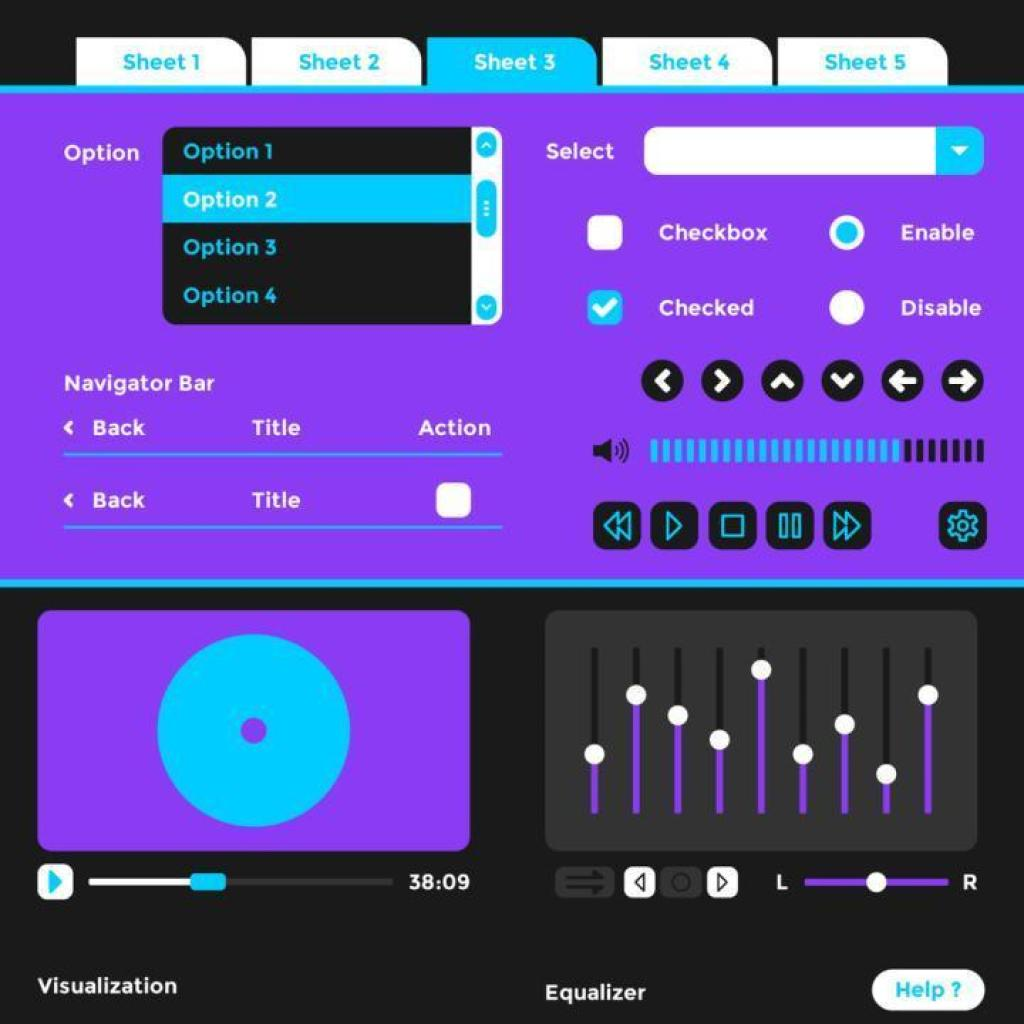button: (775, 37, 952, 91), (606, 37, 772, 91), (76, 38, 244, 88), (424, 40, 597, 88), (254, 42, 422, 82), (869, 970, 984, 1007)
checkbox: (589, 213, 623, 252), (436, 482, 470, 519), (589, 289, 624, 324)
dropdown: (644, 128, 984, 175)
icon: (630, 351, 691, 410), (937, 347, 996, 408), (822, 350, 872, 405), (760, 353, 810, 404), (883, 354, 930, 403), (826, 505, 872, 552), (702, 358, 746, 406), (768, 503, 811, 552), (592, 505, 638, 550), (712, 505, 756, 545), (944, 504, 984, 546), (654, 505, 694, 546), (40, 866, 78, 900)
label: (651, 212, 775, 257), (28, 974, 196, 1006), (535, 977, 664, 1017), (56, 370, 226, 394), (892, 288, 987, 328), (893, 210, 977, 250), (58, 139, 150, 171), (654, 296, 760, 318), (545, 135, 613, 167)
radio: (830, 289, 868, 330), (828, 214, 868, 250)
